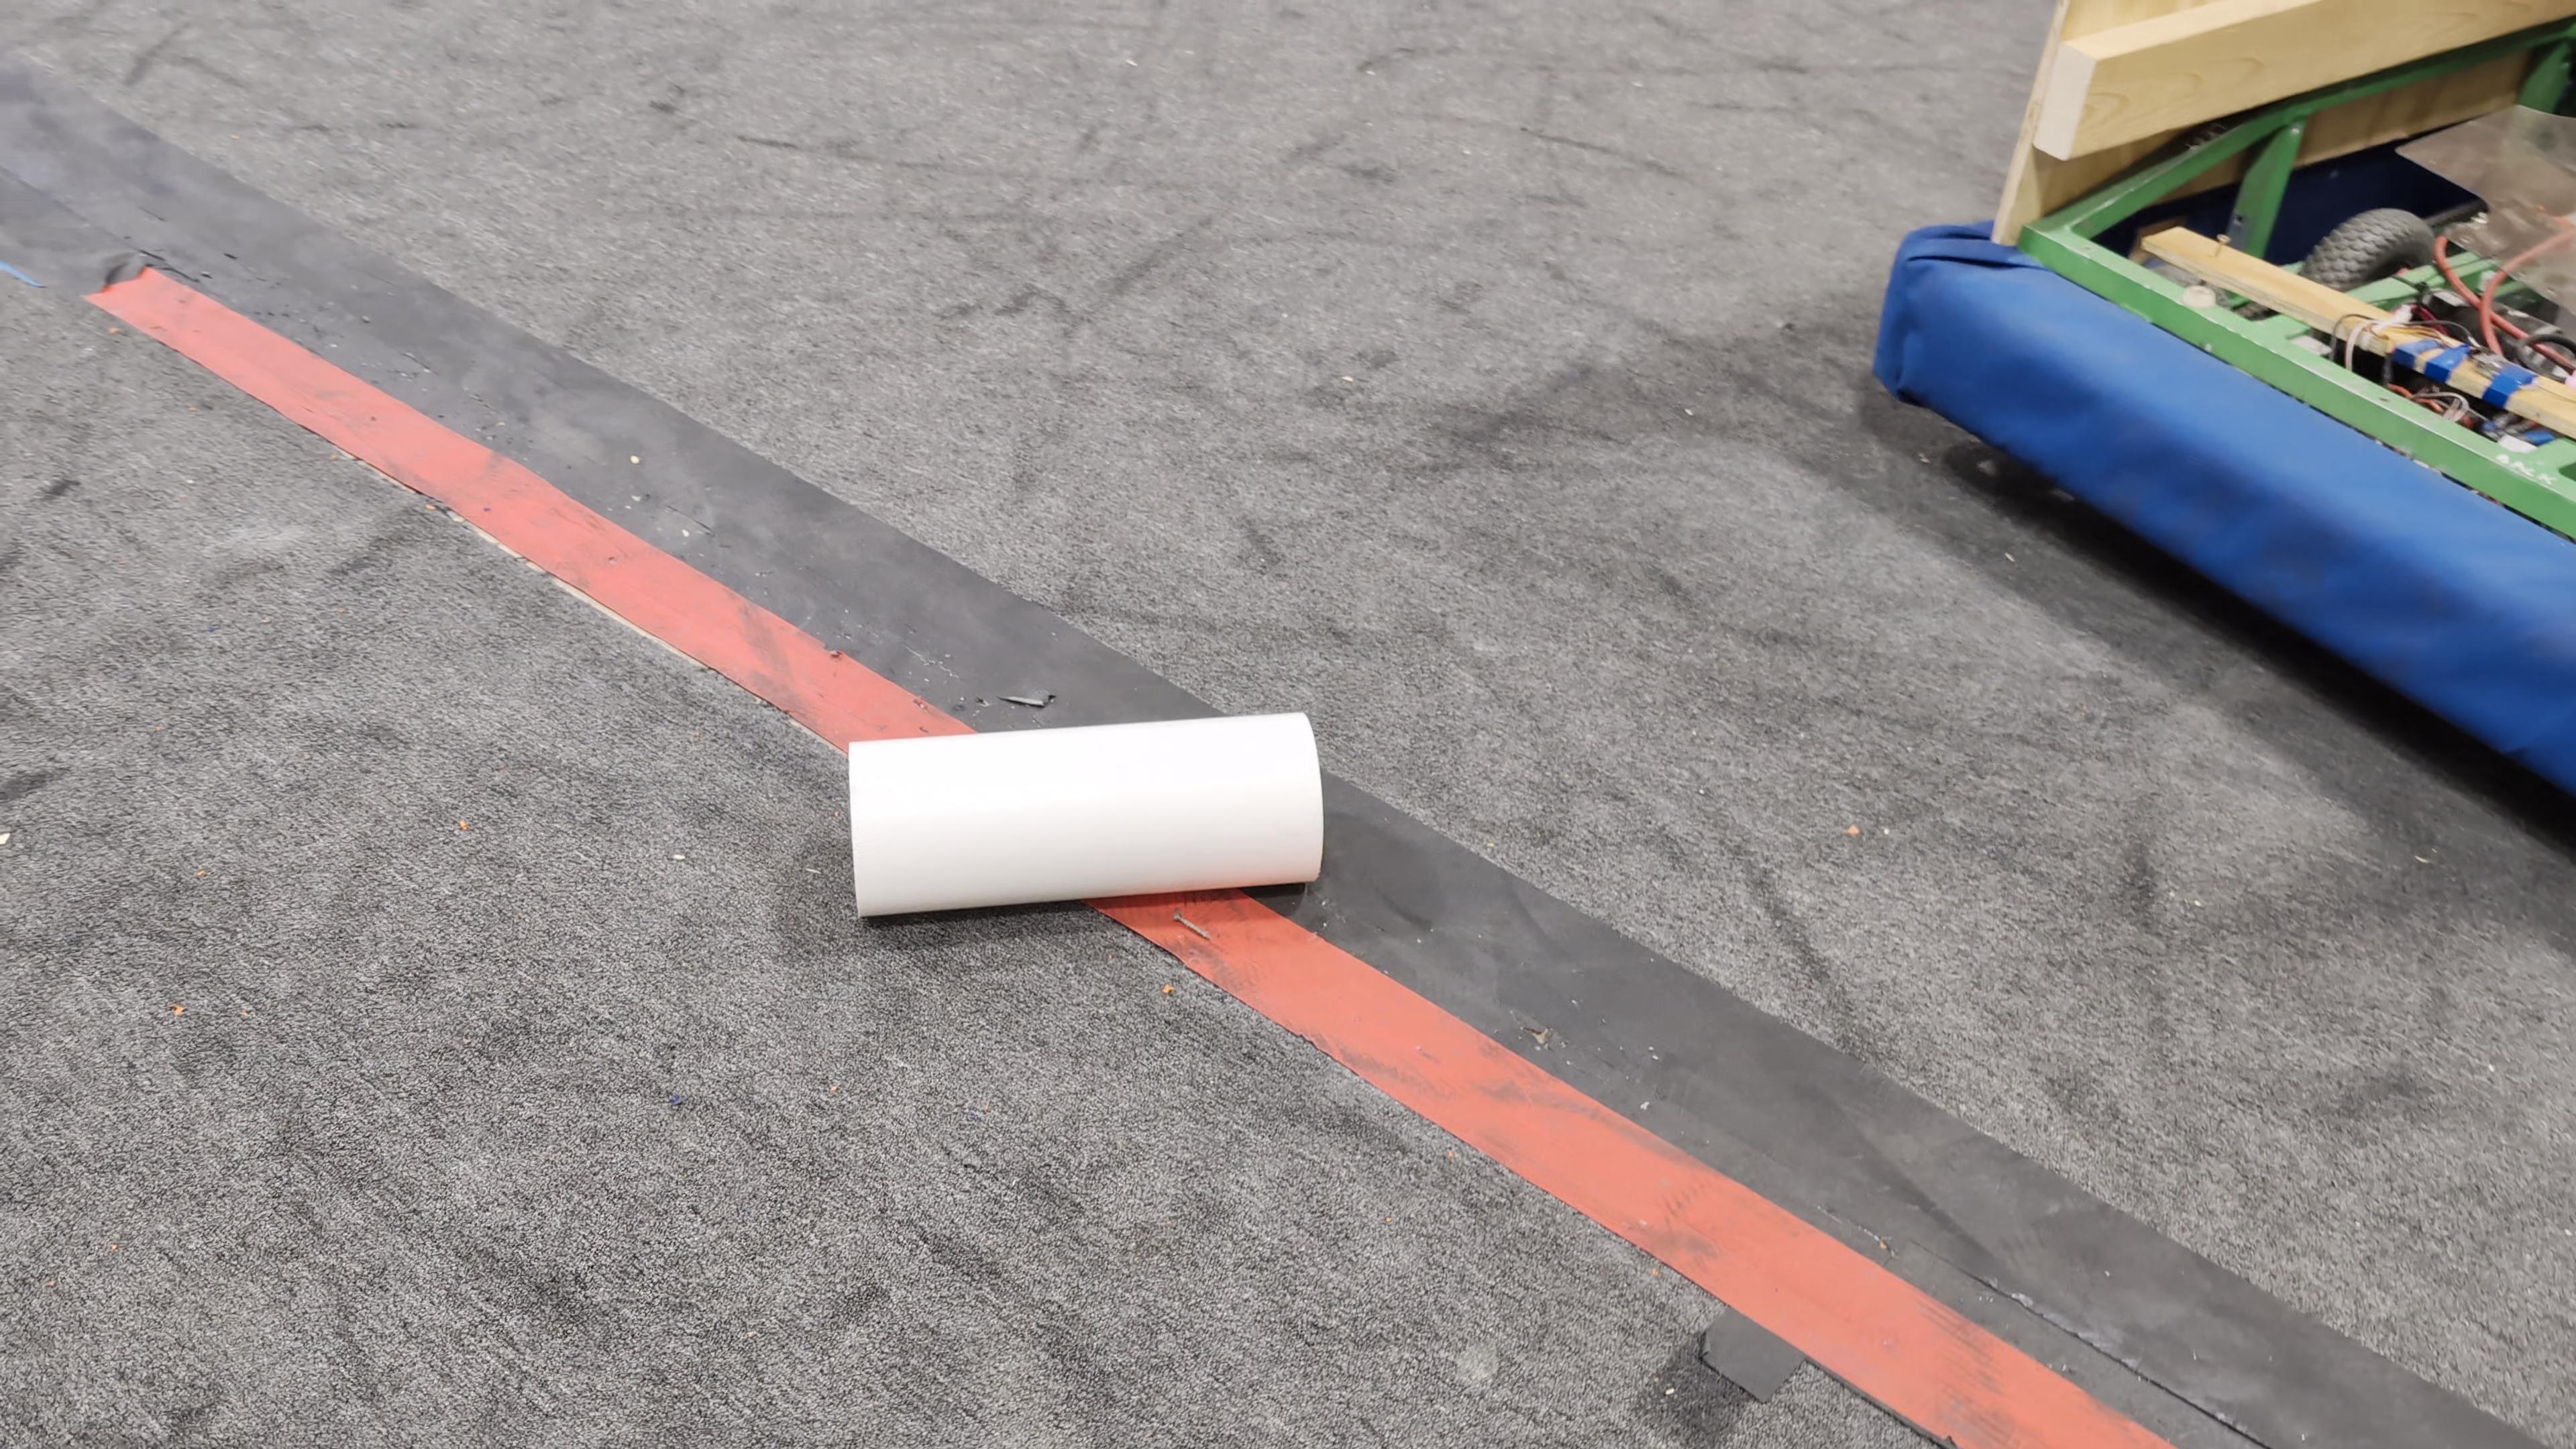coral: (844, 708, 1325, 918)
